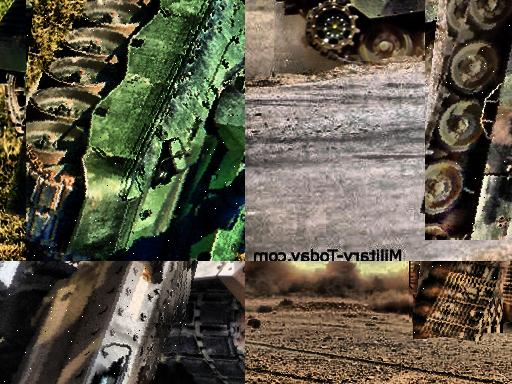tanks: (27, 1, 246, 262), (1, 262, 188, 384), (426, 1, 512, 240), (414, 262, 503, 342)
